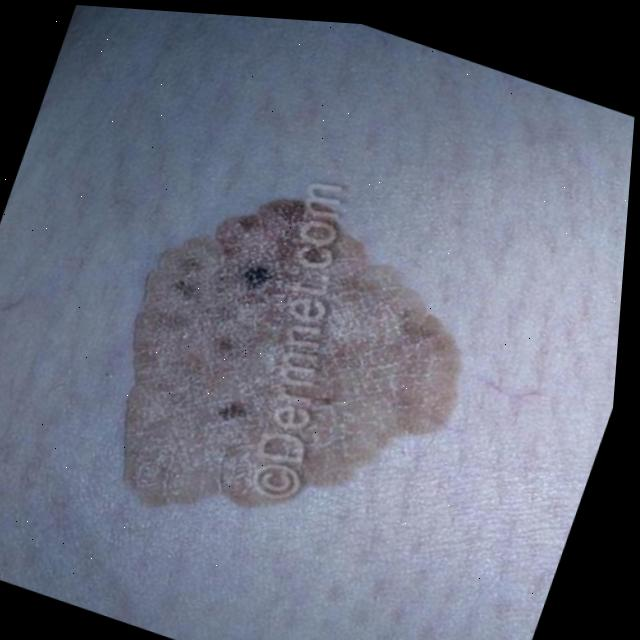Eczema: (59, 165, 463, 571)
